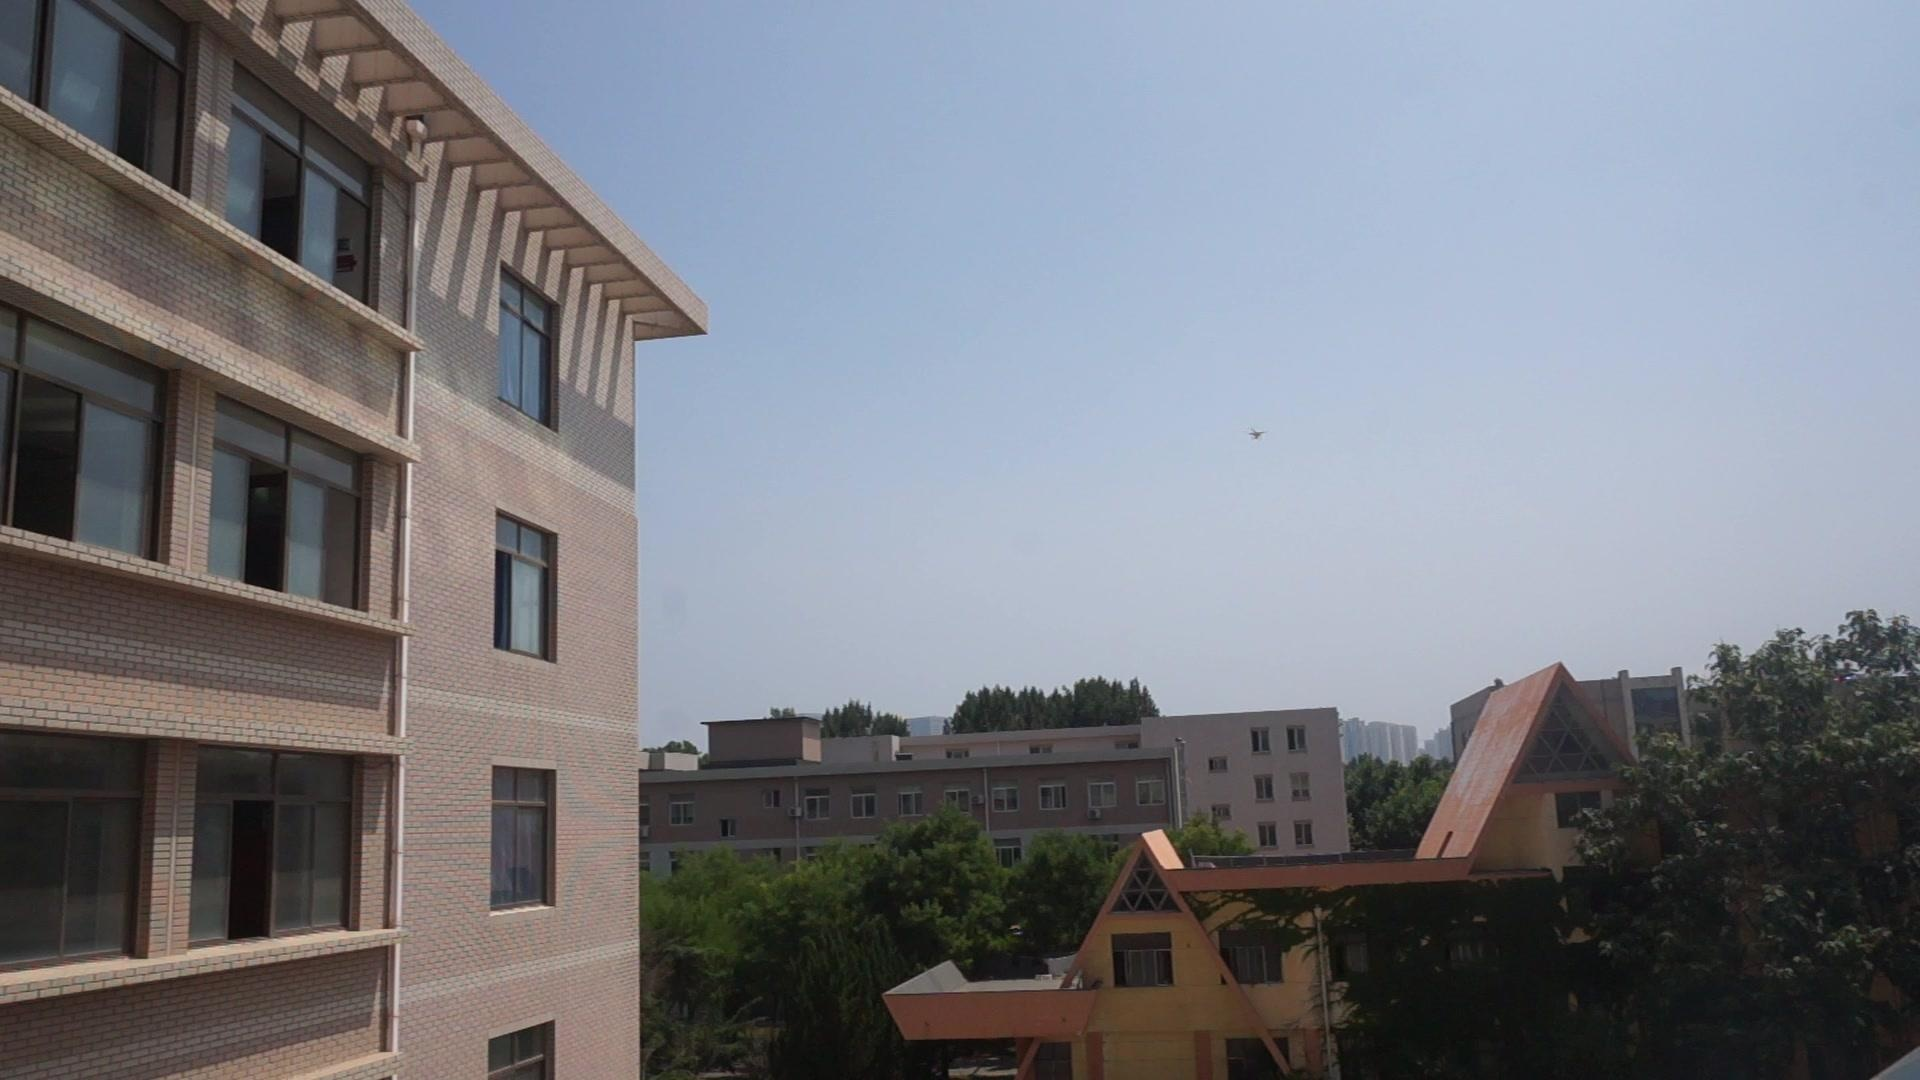UAV: (1250, 429, 1267, 440)
